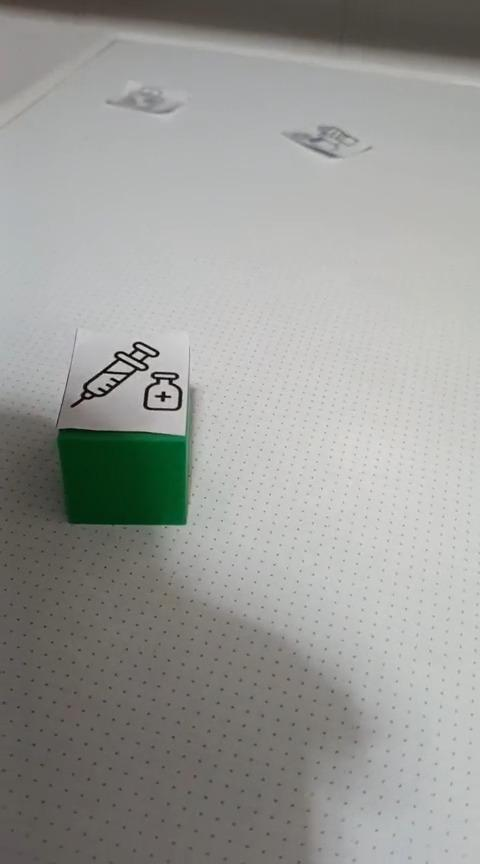antiseptic cream: (54, 325, 191, 526)
